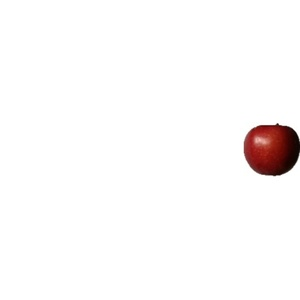maçã braeburn: (243, 120, 298, 178)
